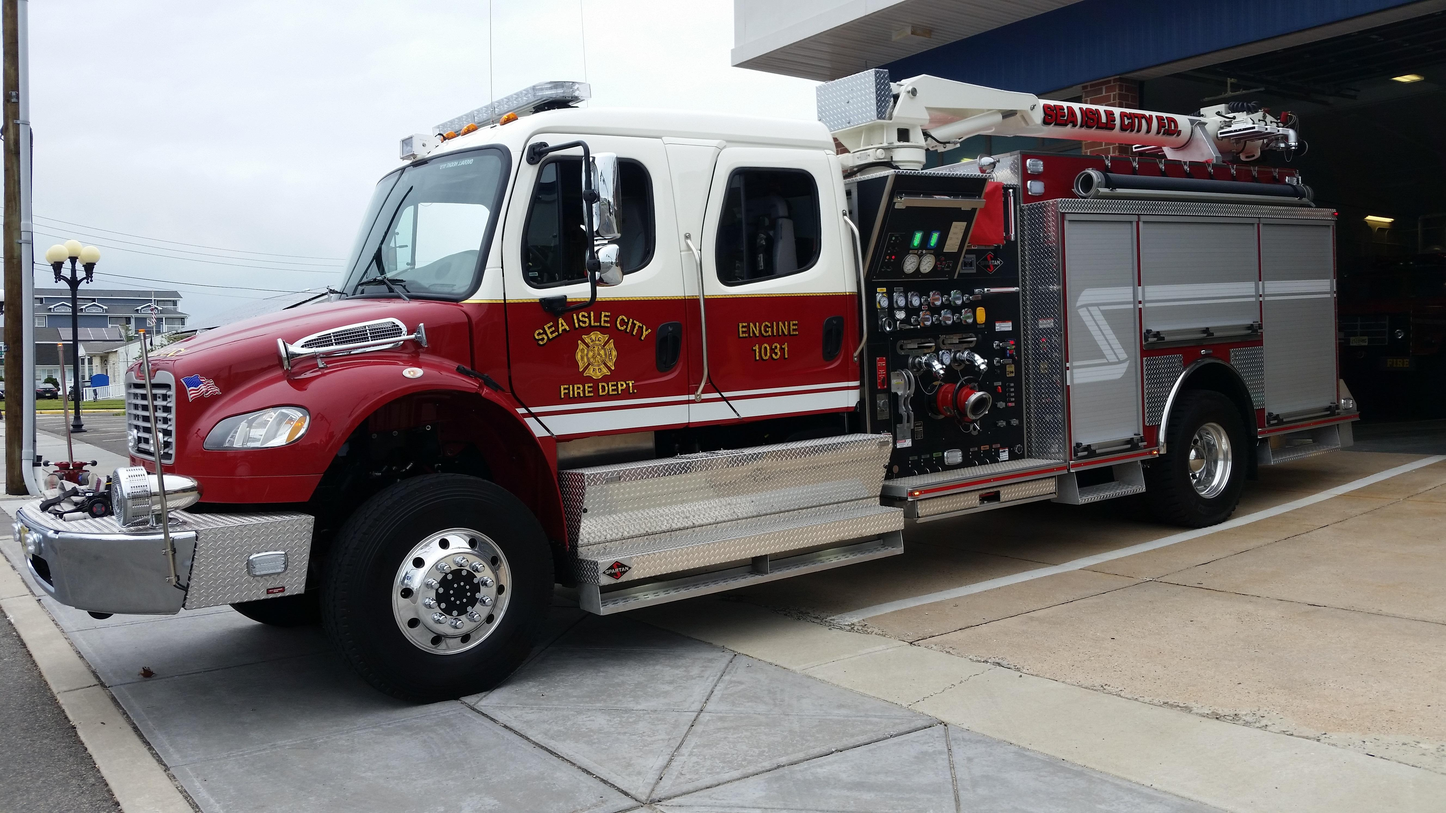Fire-engine: (13, 68, 1360, 706)
